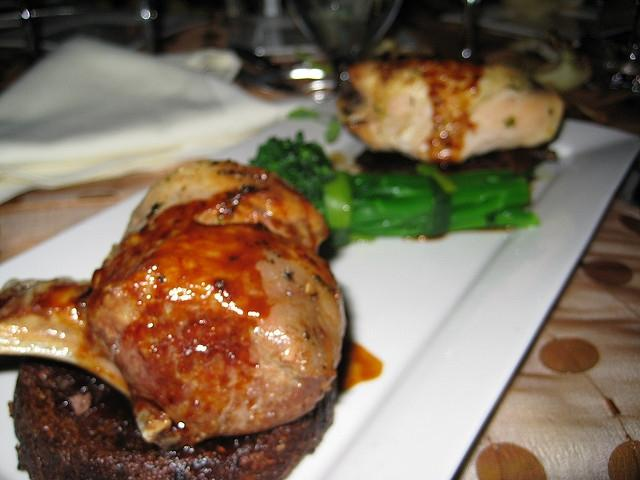broccoli: (250, 131, 450, 238)
